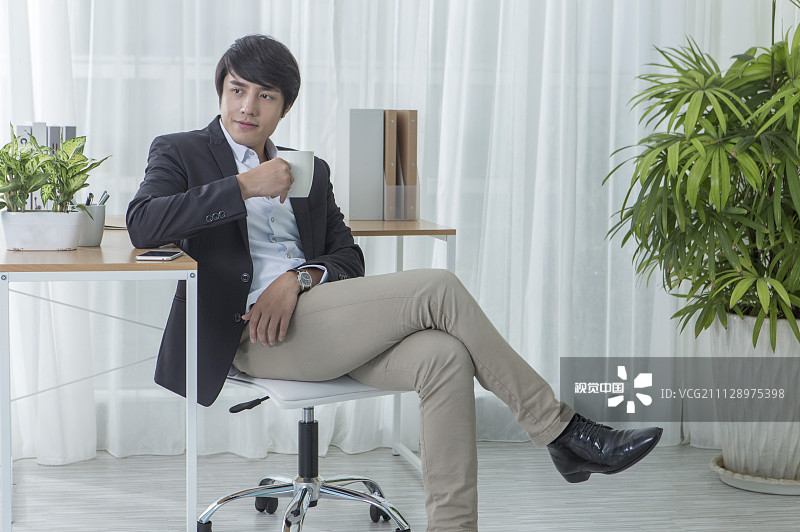no-phone: (231, 261, 314, 356), (232, 144, 325, 207)
